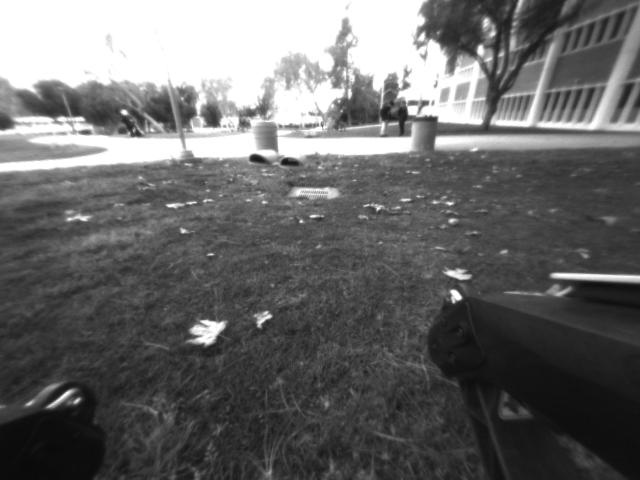trashcan: (251, 120, 280, 154), (412, 116, 437, 153)
